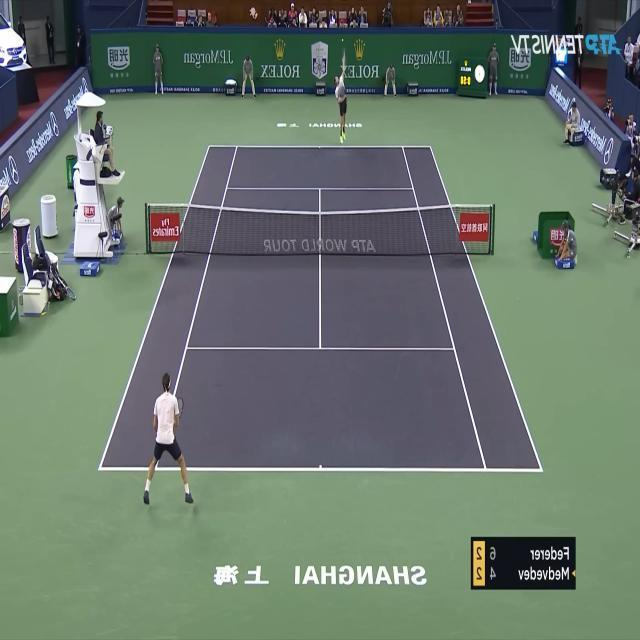court: (97, 145, 544, 473)
net: (142, 200, 496, 254)
player: (143, 372, 194, 506)
